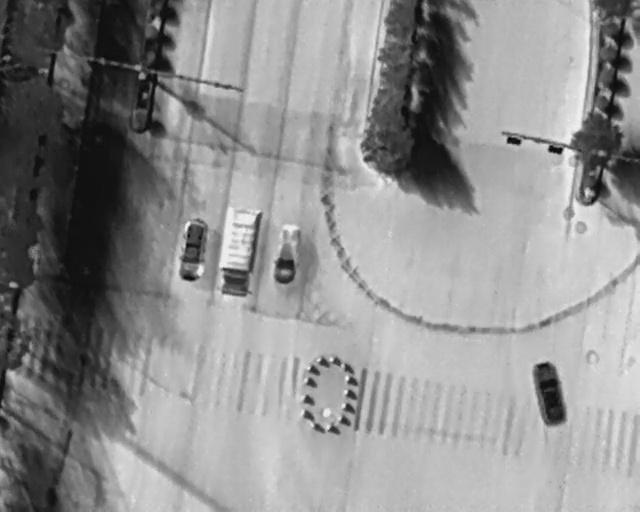Car: (212, 203, 264, 298), (528, 359, 573, 432), (174, 215, 212, 283), (271, 220, 304, 286)
